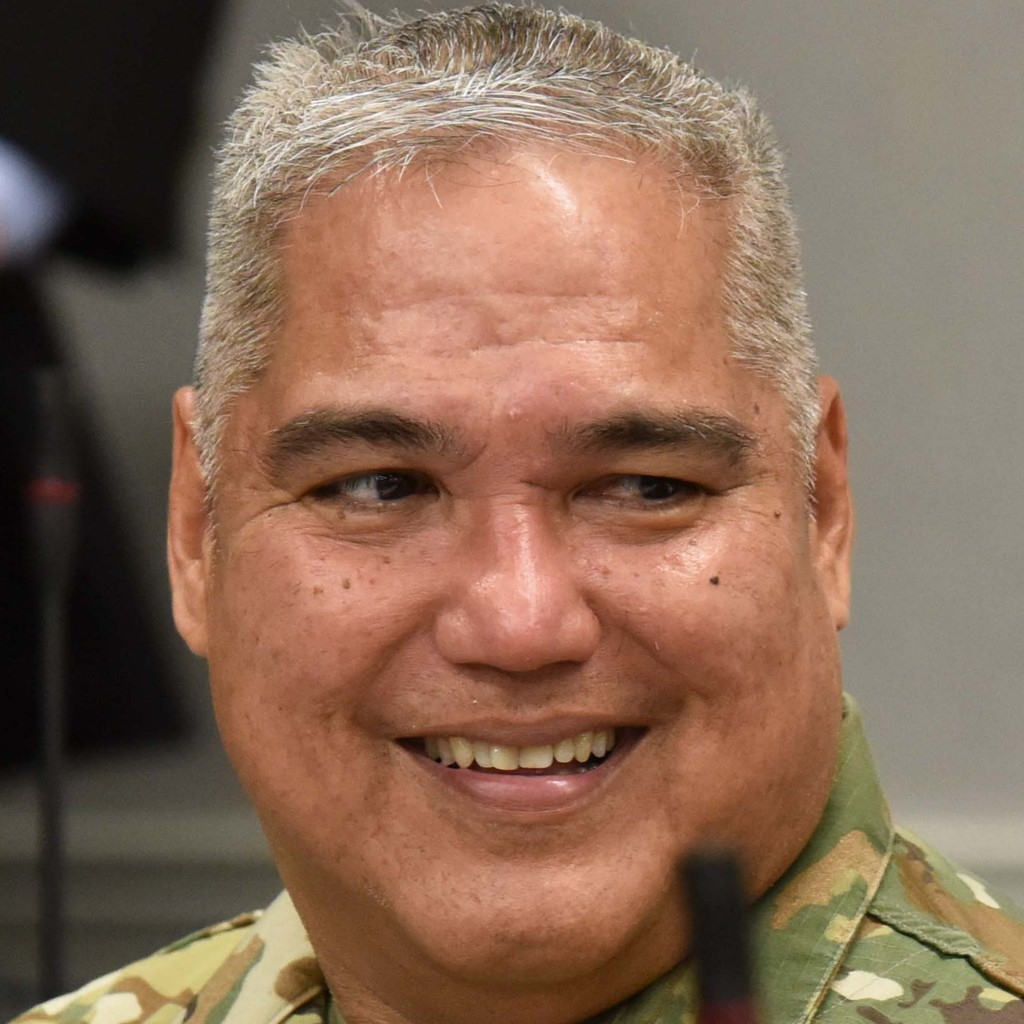sin_mascara: (230, 105, 814, 981)
